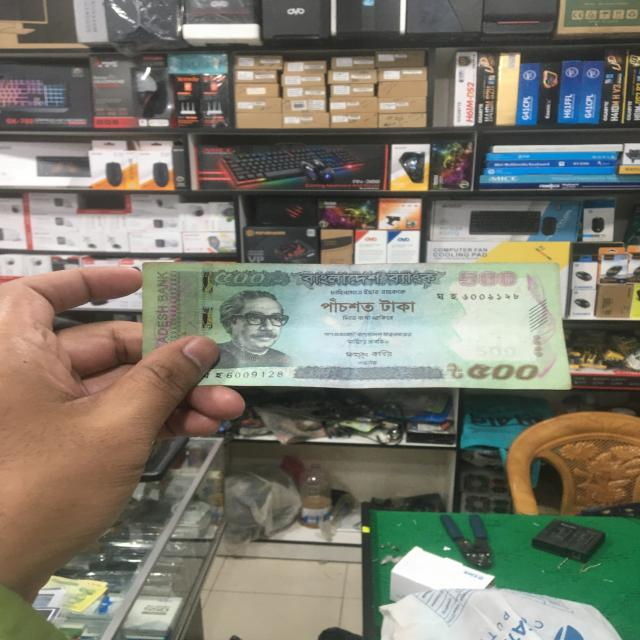Taka: (142, 264, 570, 384)
